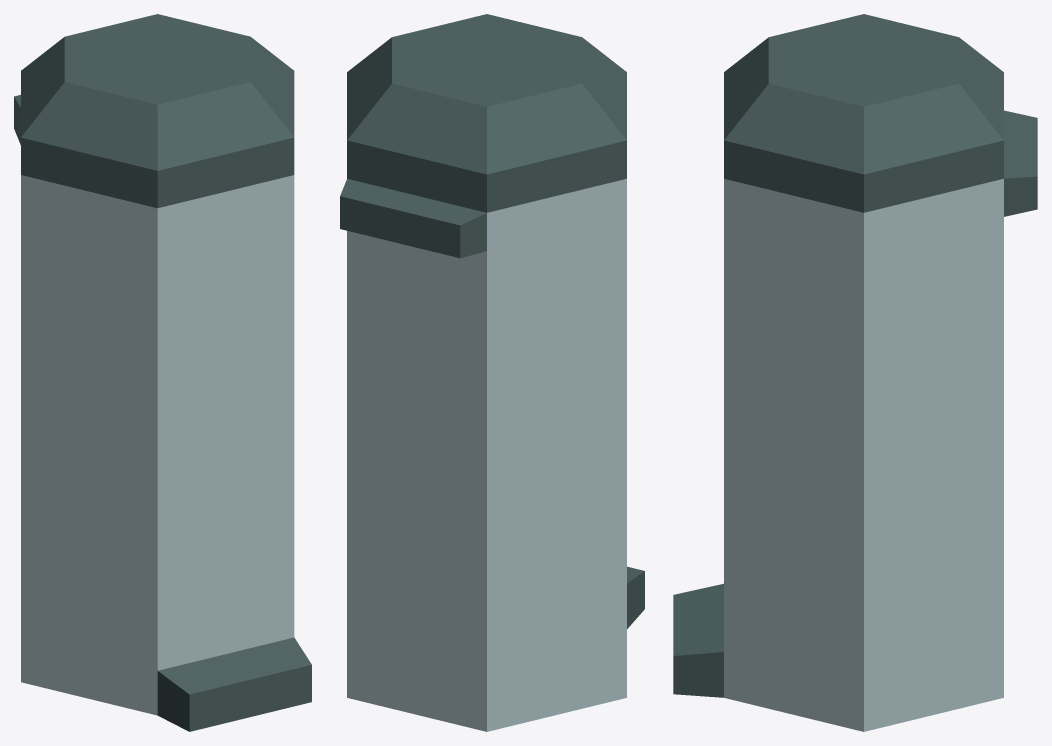
Rendered from trash_bin.glb.
The picture shows the model from 3 angles, left to right: view 1: azimuth 30°, elevation 25°; view 2: azimuth 150°, elevation 25°; view 3: azimuth 270°, elevation 25°; orthographic projection. The views are drawn at different scales.
Parts seen in each view (by area): view 1: trashcan(Clone); view 2: trashcan(Clone); view 3: trashcan(Clone).
Part boxes in pixels (<box>): trashcan(Clone): <box>14,14,311,731</box>; trashcan(Clone): <box>340,14,644,731</box>; trashcan(Clone): <box>673,14,1037,731</box>.
Bounding box in the file's own units: 0.4777 × 0.9841 × 0.5385.
